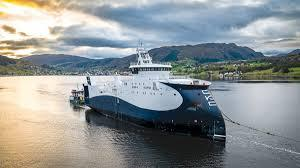Ship: (69, 43, 231, 148)
